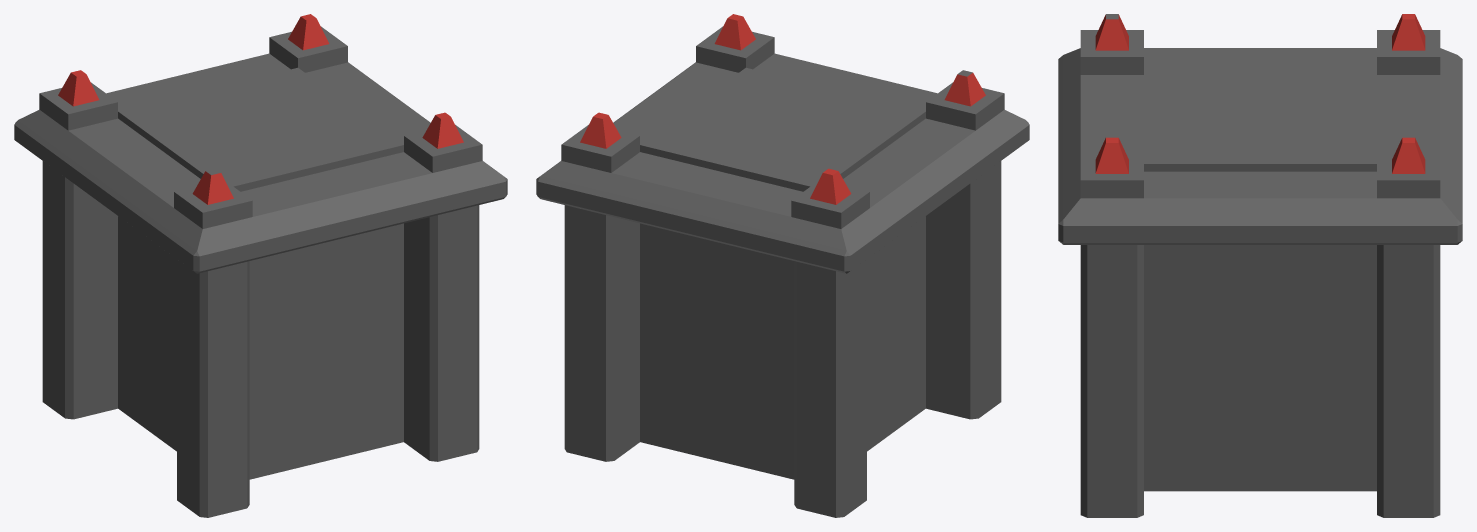
Rendered from StoneDisplay.fbx.
3 views of the same model, side by side, from view 1: azimuth 30°, elevation 25°; view 2: azimuth 150°, elevation 25°; view 3: azimuth 270°, elevation 25° (orthographic). The views are drawn at different scales.
Parts seen in each view (by area): view 1: Cube.023; view 2: Cube.023; view 3: Cube.023.
Part boxes in pixels (x1,y1,x2,y2): Cube.023: [14, 14, 507, 517]; Cube.023: [536, 14, 1029, 517]; Cube.023: [1058, 14, 1462, 517].
Size of the model in its own units: 51.81 by 52.09 by 52.4.
